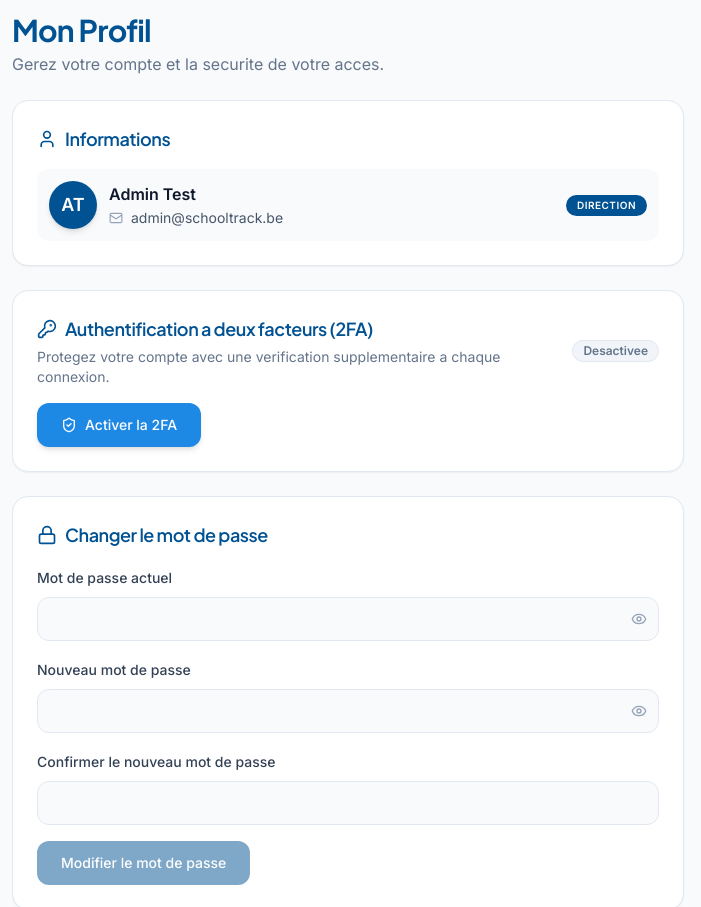
Test: ProfileScreen — Choix de methode 2FA › affiche les deux options (Application et Email) apres clic sur Activer
Click the button "Activer la 2FA". click: point(119, 425)
box: x1=37 y1=403 x2=201 y2=447
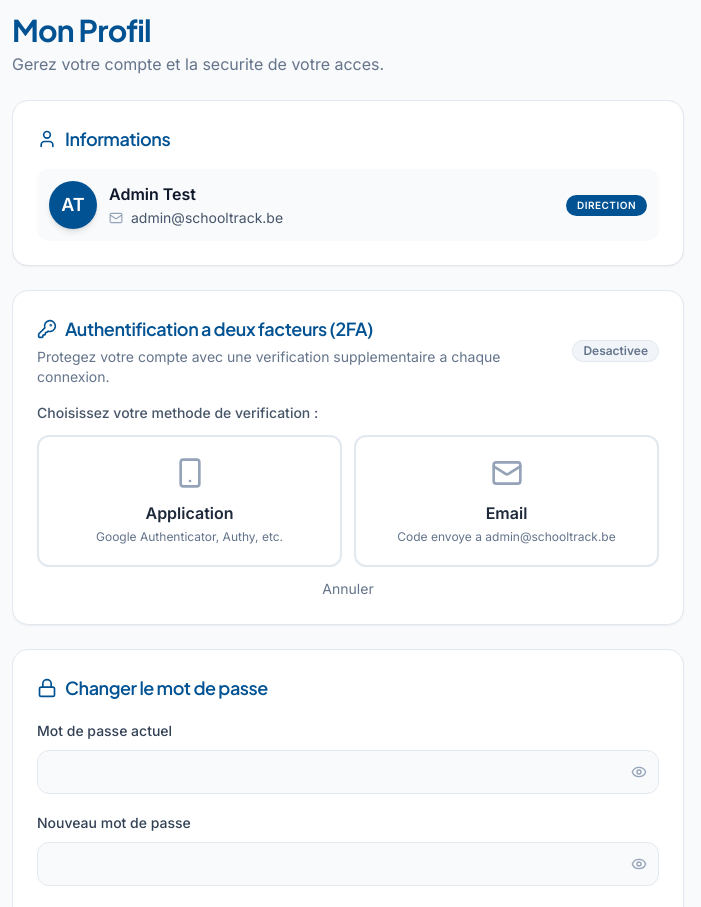
expect the text "Application" is shown: met, box x1=146 y1=503 x2=234 y2=523
expect the text "Email" is shown: met, box x1=486 y1=503 x2=527 y2=523
expect the text "Google Authenticator, Authy, etc." is shown: met, box x1=96 y1=529 x2=283 y2=545
